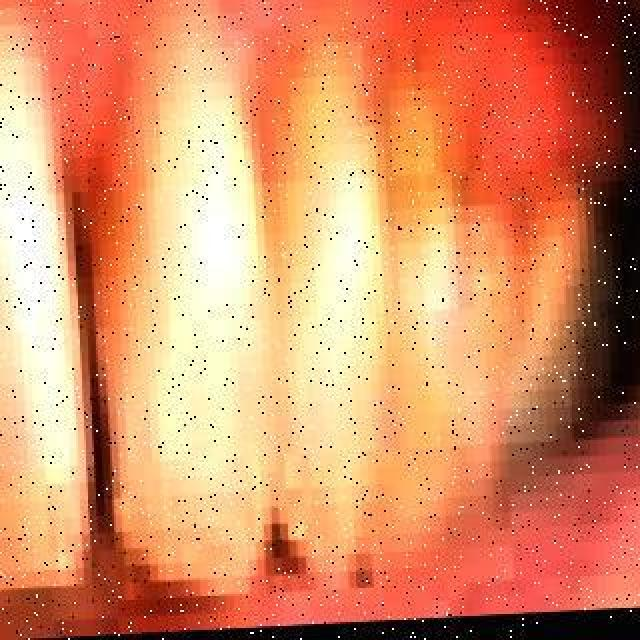spacing: (25, 183, 155, 571)
